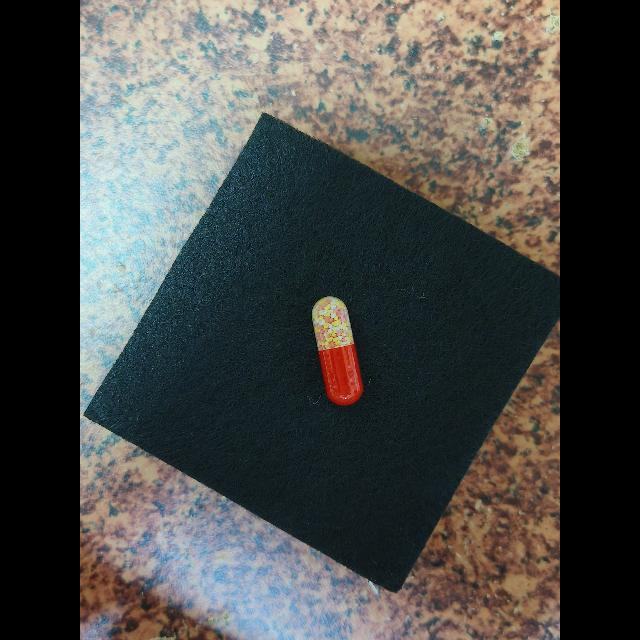Intact Capsule: (312, 296, 364, 406)
